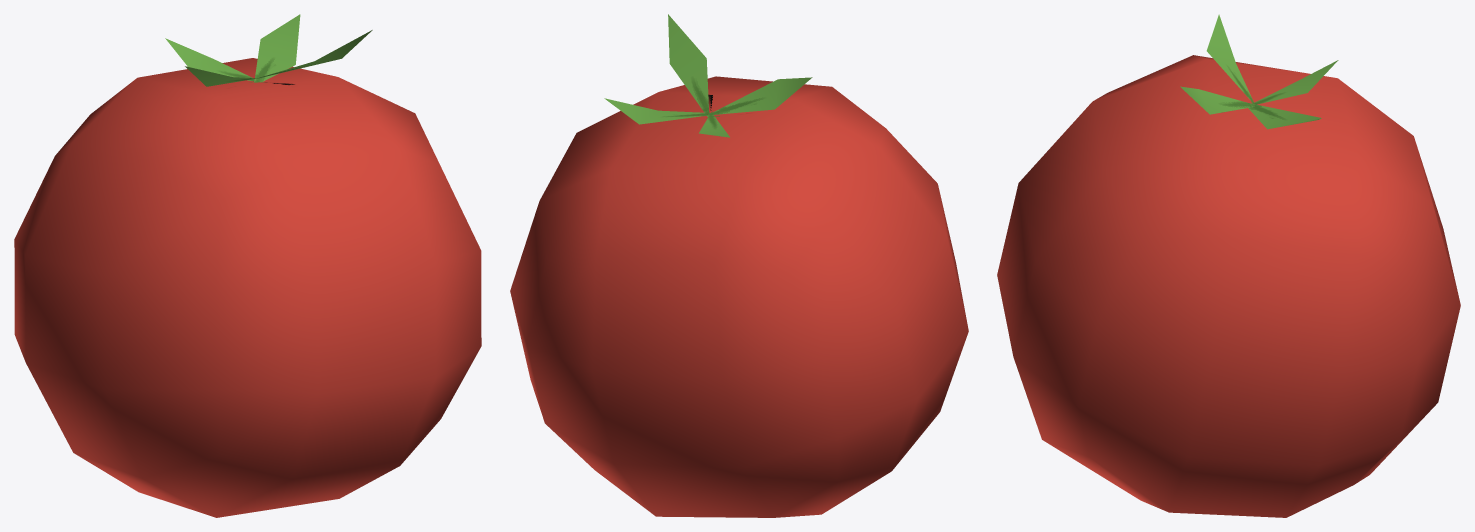
File: tomato.fbx
3 views of the same model, side by side, from view 1: azimuth 30°, elevation 25°; view 2: azimuth 150°, elevation 25°; view 3: azimuth 270°, elevation 25° (orthographic). The views are drawn at different scales.
Parts seen in each view (by area): view 1: tomato; view 2: tomato; view 3: tomato.
Part boxes in pixels (x1=…): tomato: x1=14, y1=14, x2=481, y2=517; tomato: x1=510, y1=14, x2=968, y2=517; tomato: x1=997, y1=14, x2=1460, y2=517.
Bounding box in the file's own units: 26.85 × 29.21 × 26.72.
1 material, 1 textured.
